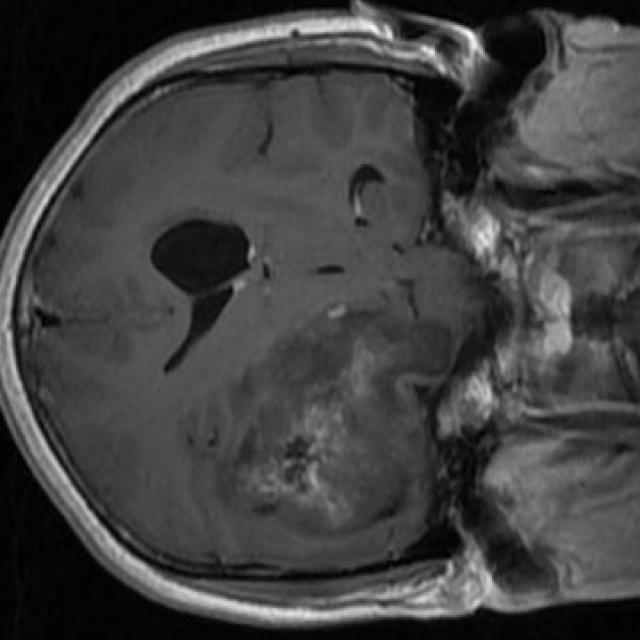glioma: (188, 309, 453, 535)
